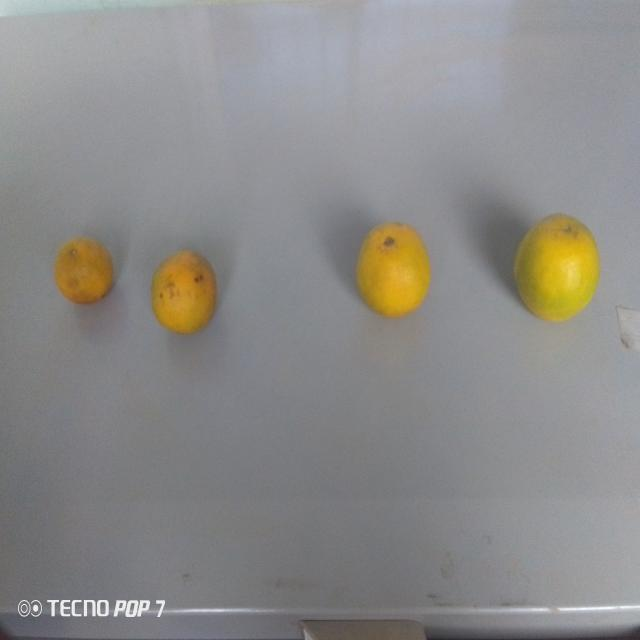Ripe orange: (509, 210, 600, 331), (353, 220, 436, 320), (148, 247, 216, 336), (52, 231, 114, 314)
